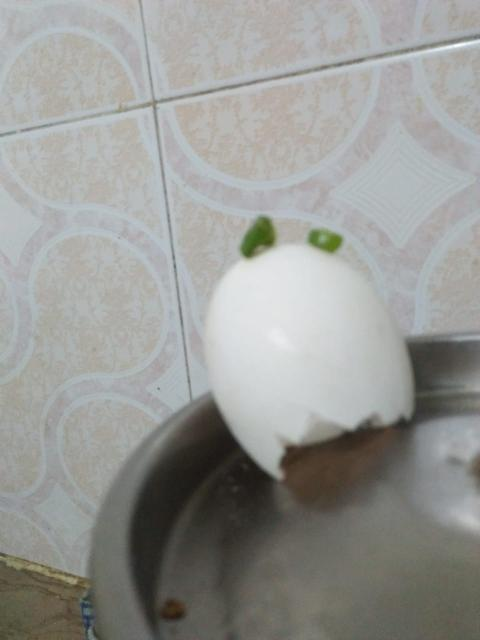Roto: (202, 236, 416, 482)
